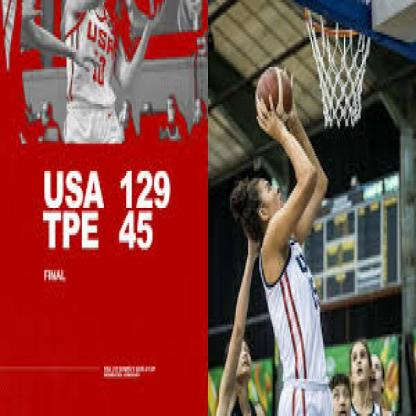basketball: (256, 64, 292, 129)
rim: (305, 5, 368, 44)
